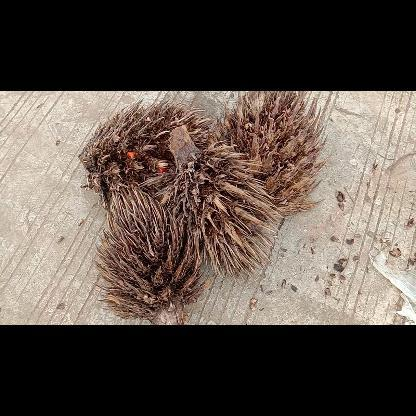Janjang kosong: (158, 124, 286, 288), (94, 186, 210, 324), (78, 98, 214, 210), (214, 90, 326, 214)
